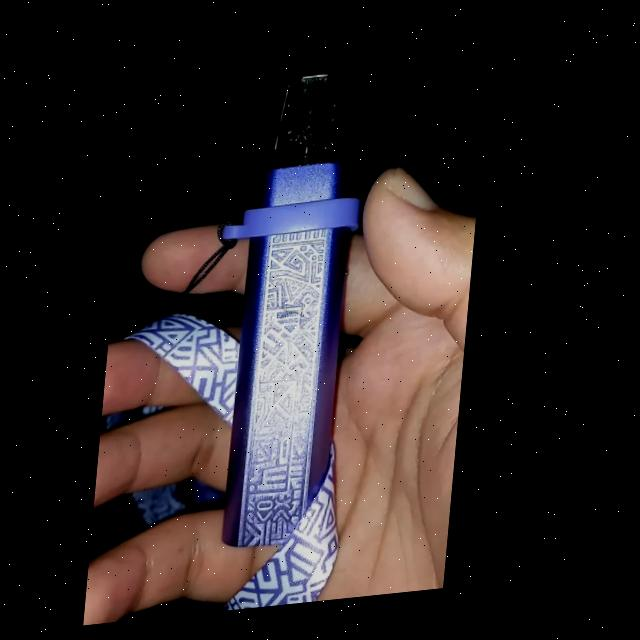vape: (201, 73, 377, 560)
